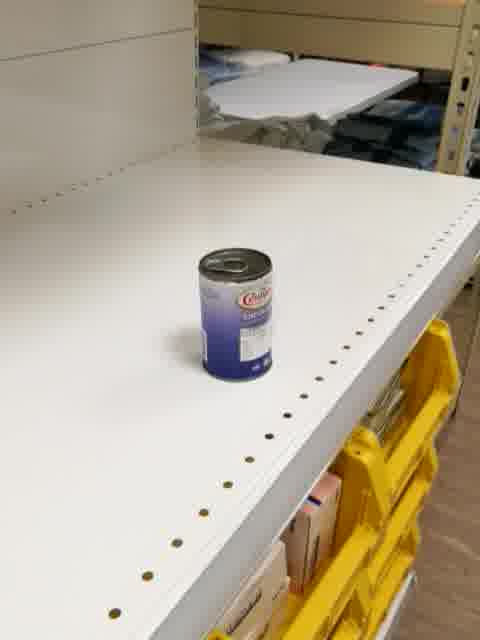sardine: (198, 244, 275, 384)
